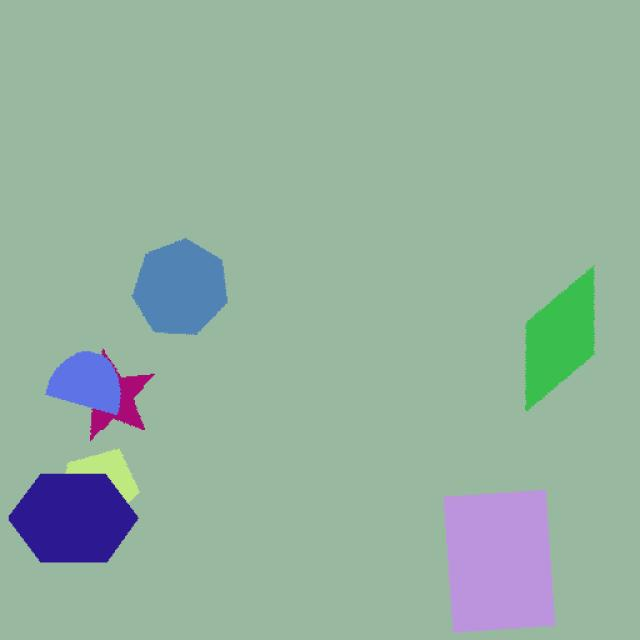Heptagon: (108, 217, 236, 339)
Hexagon: (7, 468, 154, 570)
Kite: (486, 264, 604, 433)
Rectangle: (419, 473, 602, 640)
Semicircle: (37, 347, 132, 425)
Star: (62, 335, 164, 451)
